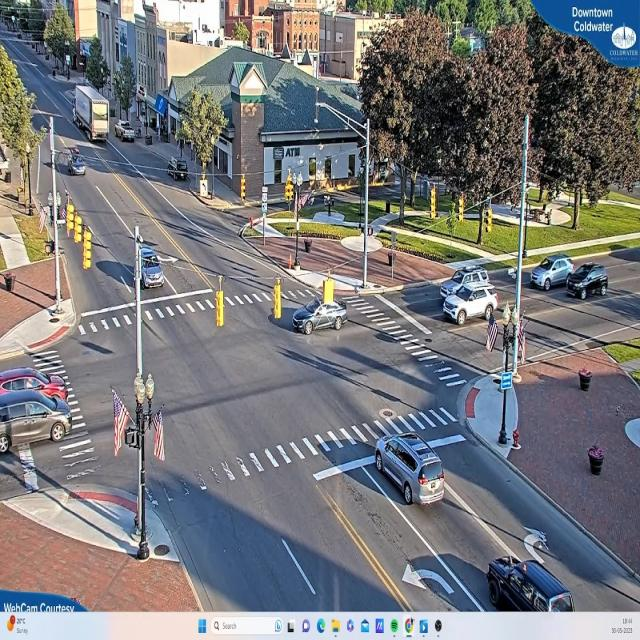car: (374, 432, 444, 507), (488, 558, 576, 612), (1, 392, 74, 453), (532, 256, 602, 298), (0, 371, 70, 411), (441, 285, 500, 324), (292, 300, 346, 336), (566, 264, 609, 300), (530, 256, 574, 291), (142, 246, 166, 288), (116, 122, 138, 144)
truck: (72, 87, 110, 142)
